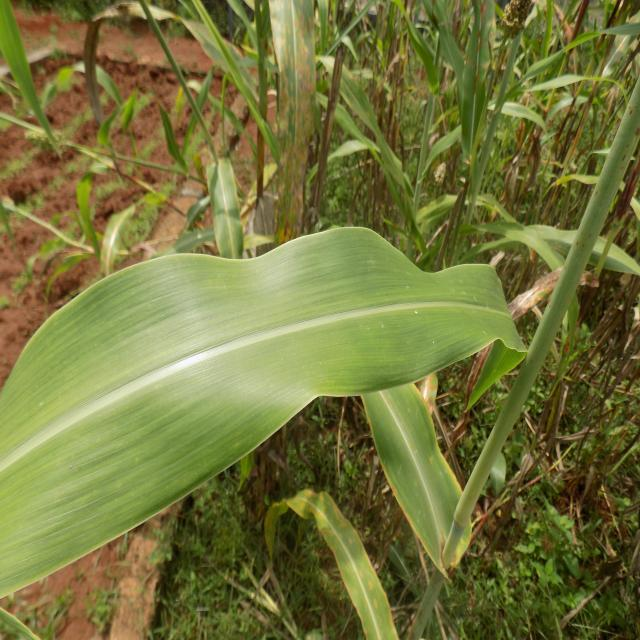millet_healthy: (0, 223, 525, 609), (364, 379, 470, 580), (211, 159, 246, 257)
millet_rust: (270, 485, 398, 640), (270, 3, 318, 240)
